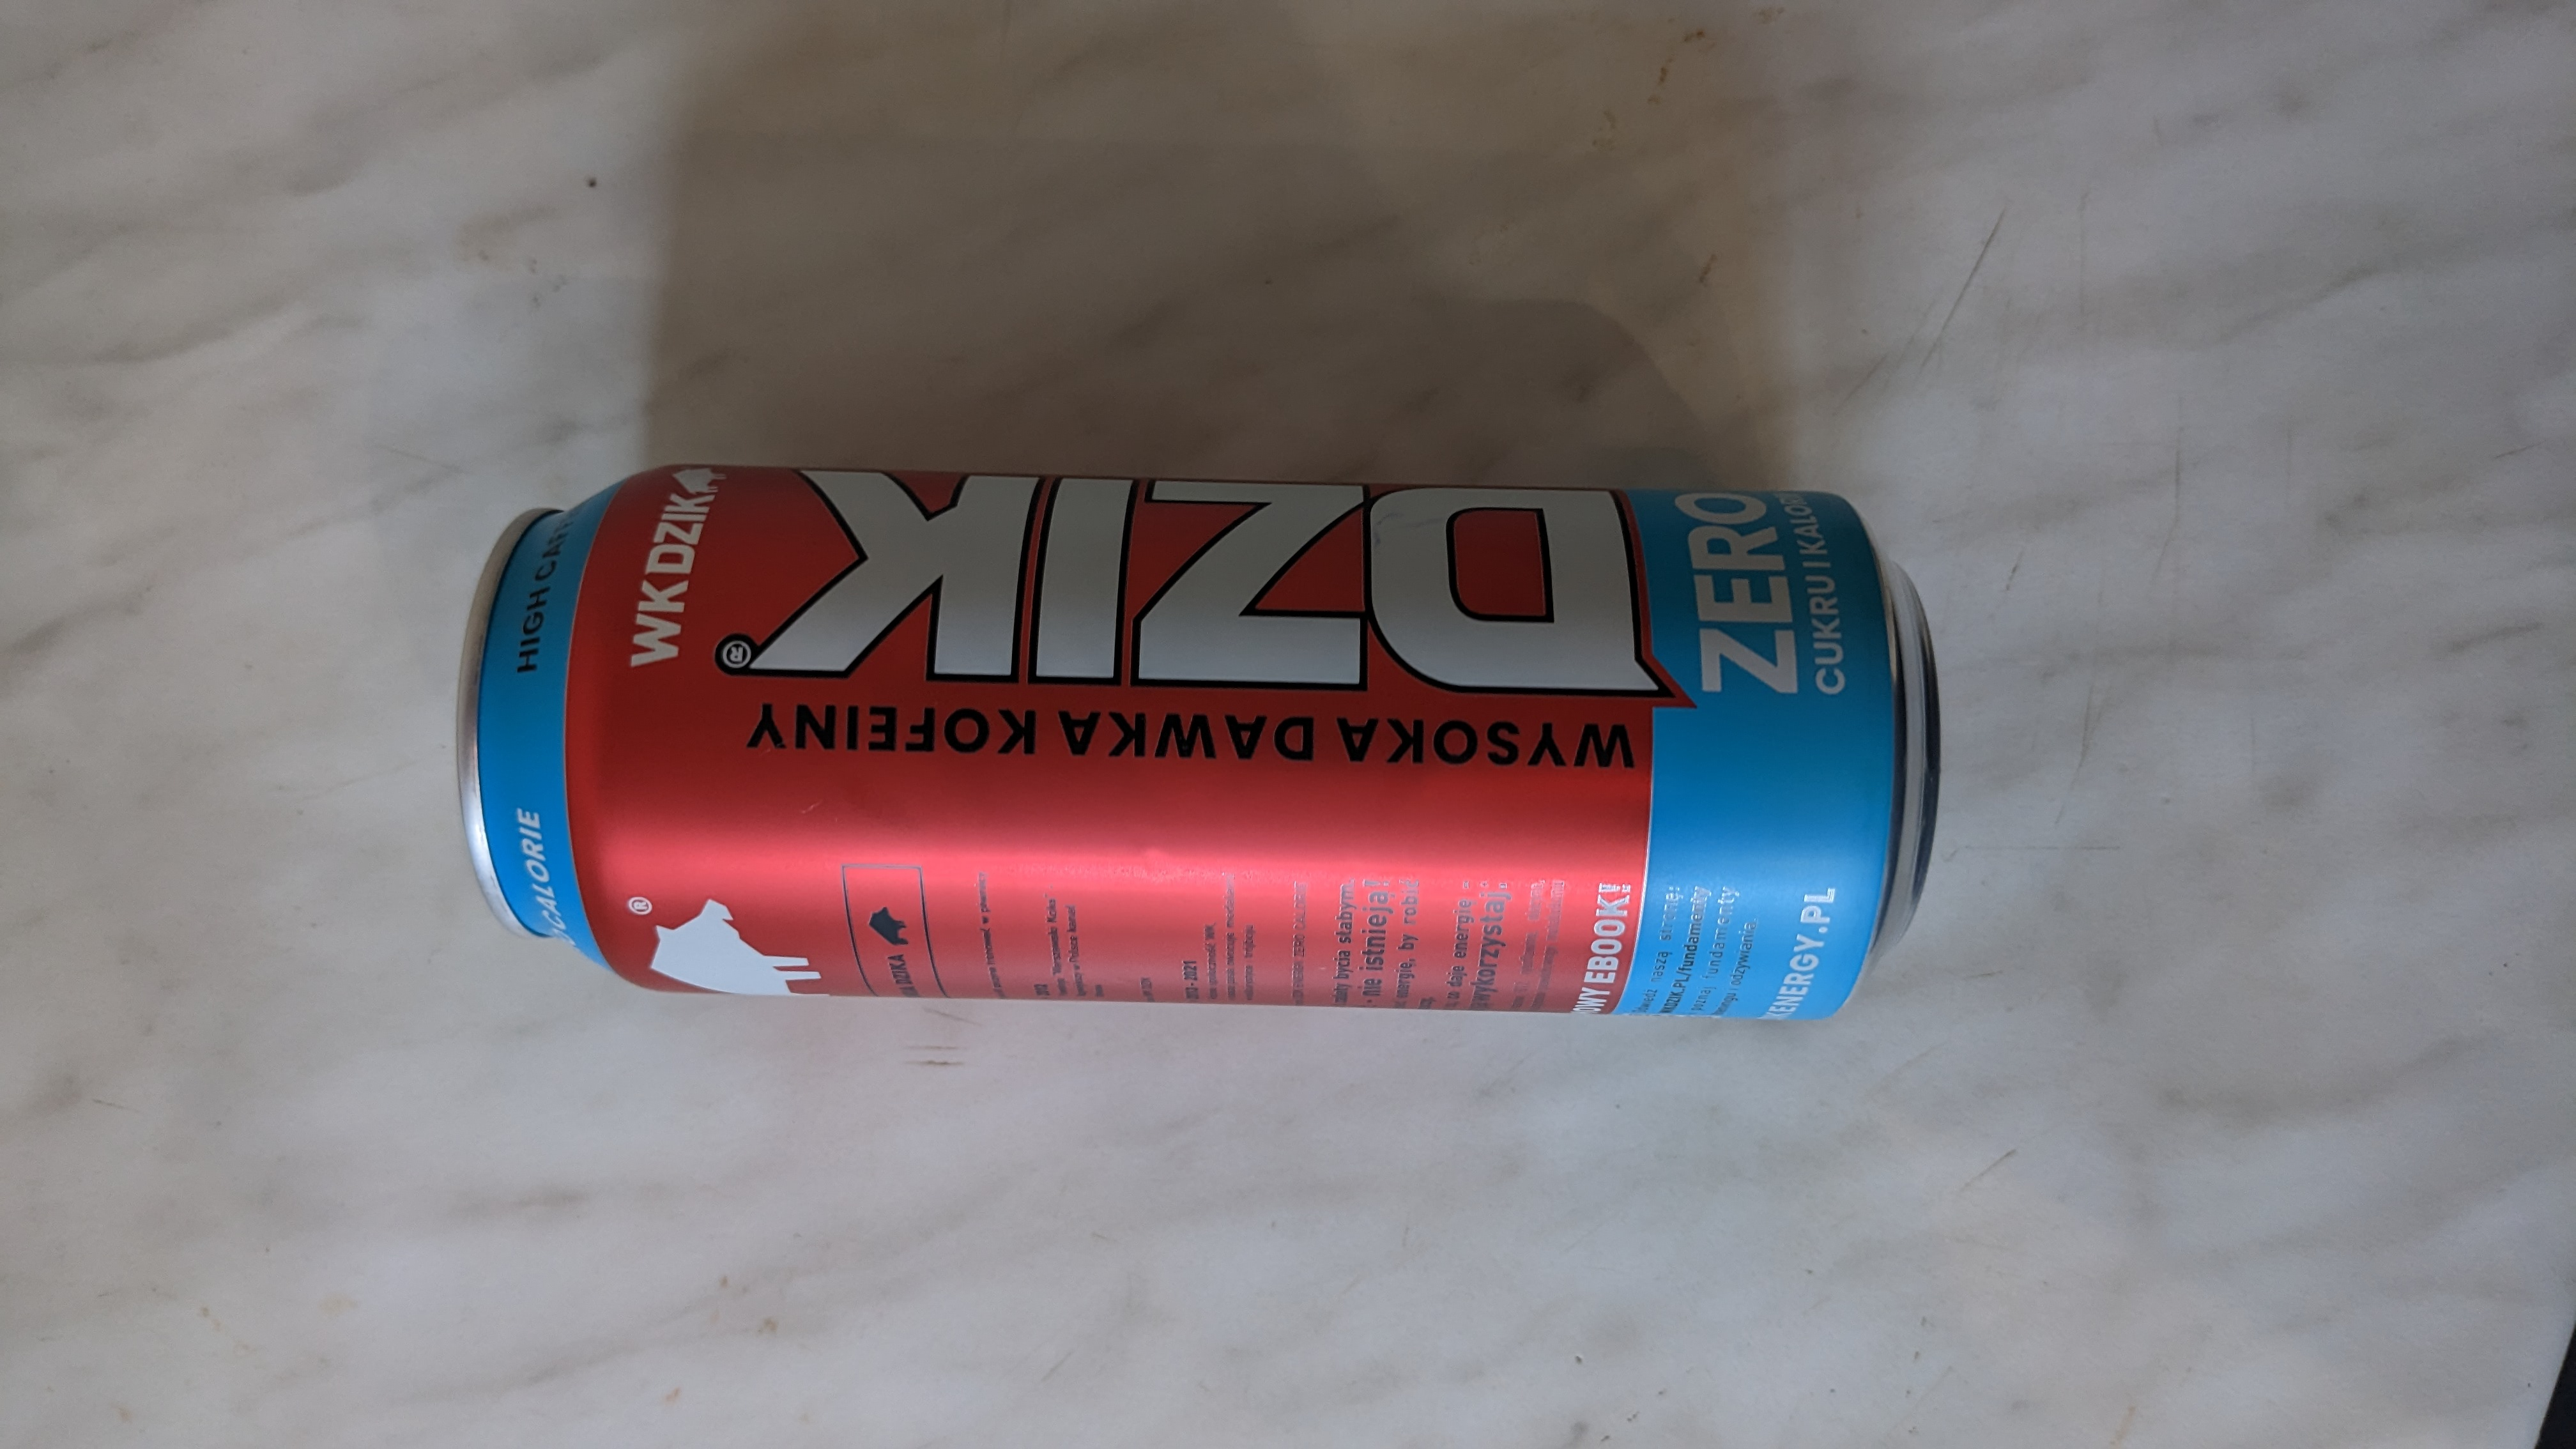dzik: (437, 478, 1967, 1028)
